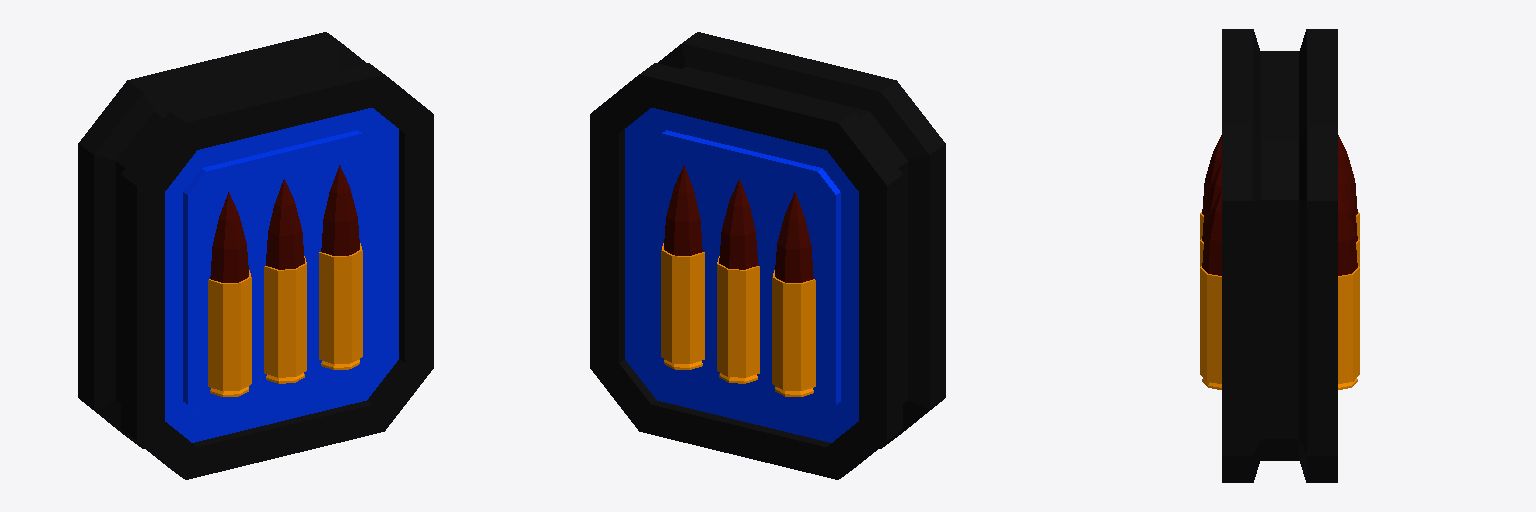
Rendered from PowerUp_Ammo.obj.
3 renders of one model, left to right at view 1: azimuth 30°, elevation 25°; view 2: azimuth 150°, elevation 25°; view 3: azimuth 270°, elevation 25°, orthographic.
Parts seen in each view (by area): view 1: powerUp_Ammo; view 2: powerUp_Ammo; view 3: powerUp_Ammo.
Part boxes in pixels (x1,y1,x2,y2): powerUp_Ammo: (78,32,433,479); powerUp_Ammo: (590,32,945,479); powerUp_Ammo: (1200,29,1359,482).
Size of the model in its own units: 0.364 by 0.4186 by 0.1704.